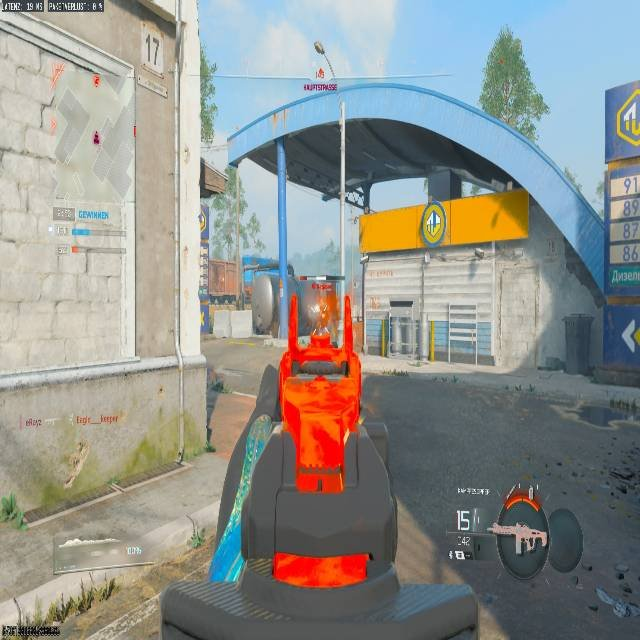player: (307, 296, 335, 345), (318, 301, 330, 335)
